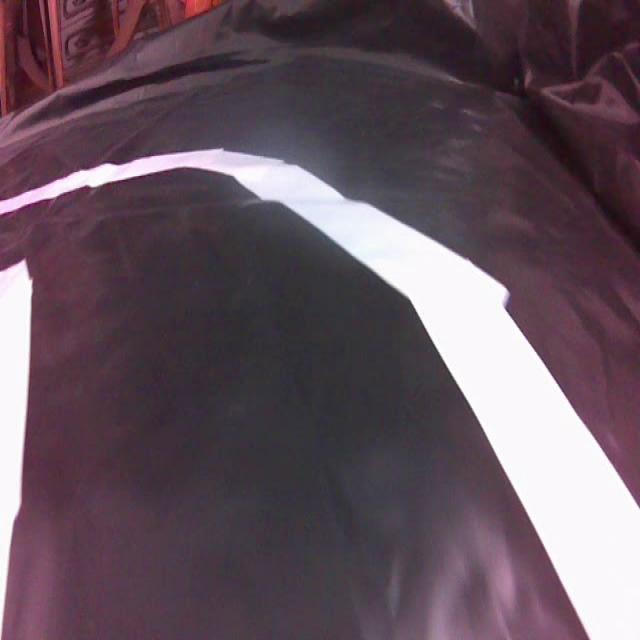LineaCarril: (0, 148, 640, 638), (0, 260, 32, 634)
